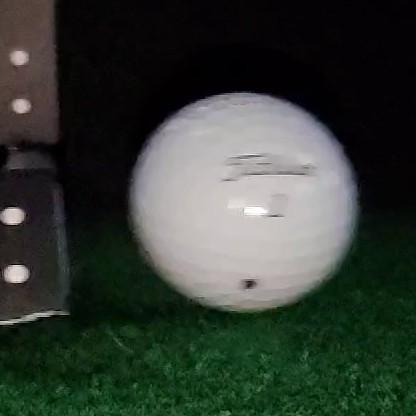golfball: (131, 93, 356, 312)
